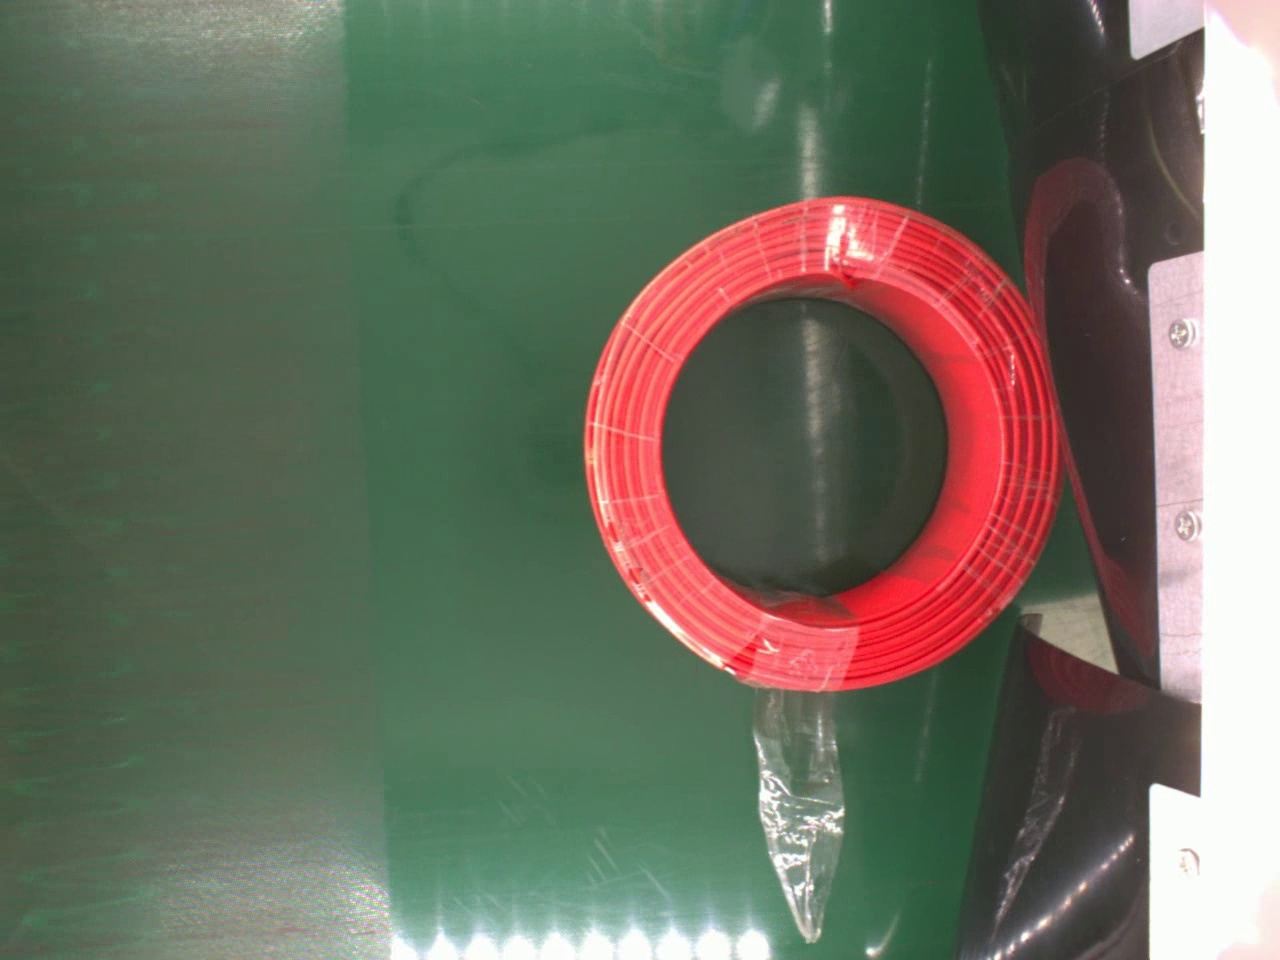red: (582, 193, 1065, 694)
